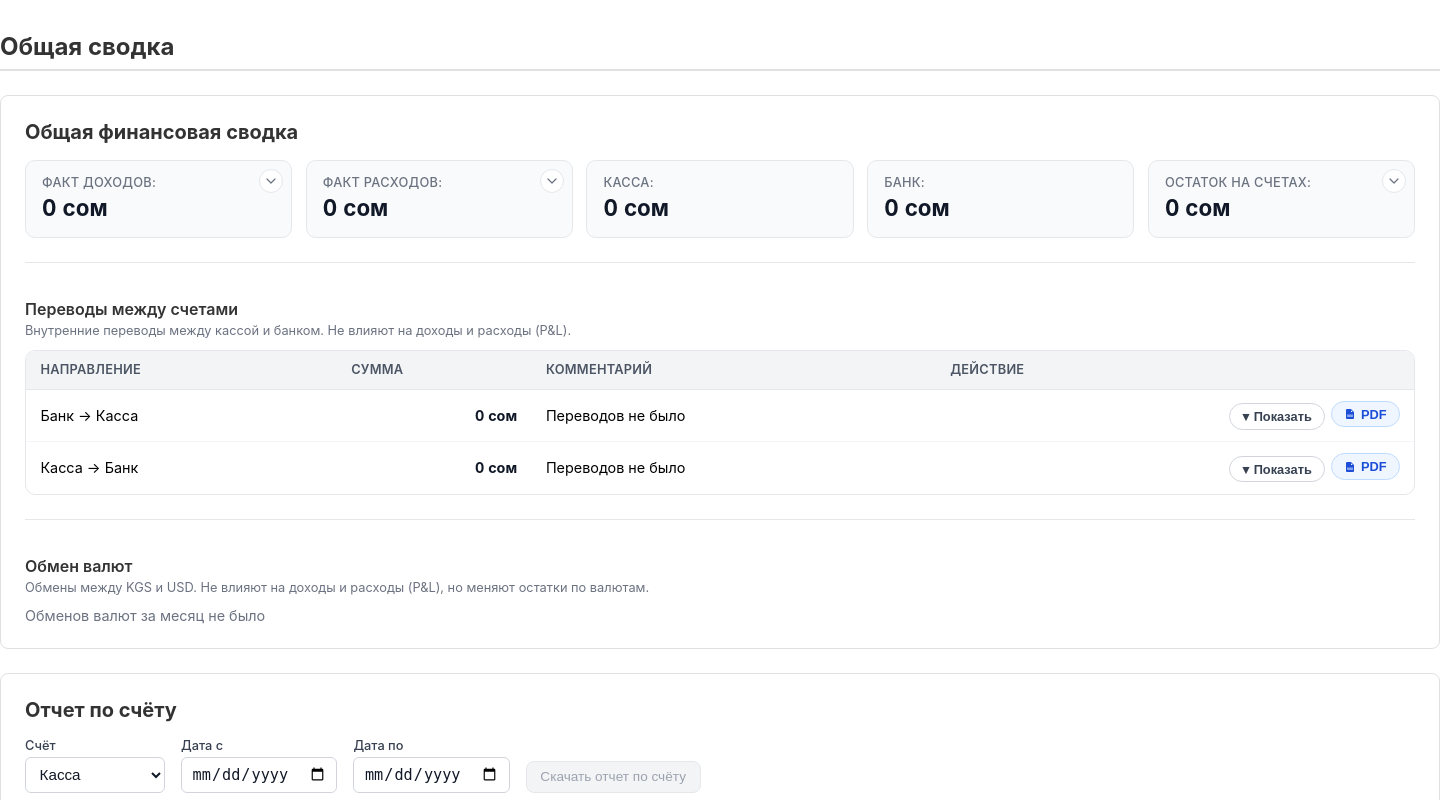
Scenario: GlobalSummary section PDF export › shows invalid range message and disables apply button
Click the button named "Показать детализацию расходов по категориям" at (552, 181), box [540,169,564,193]
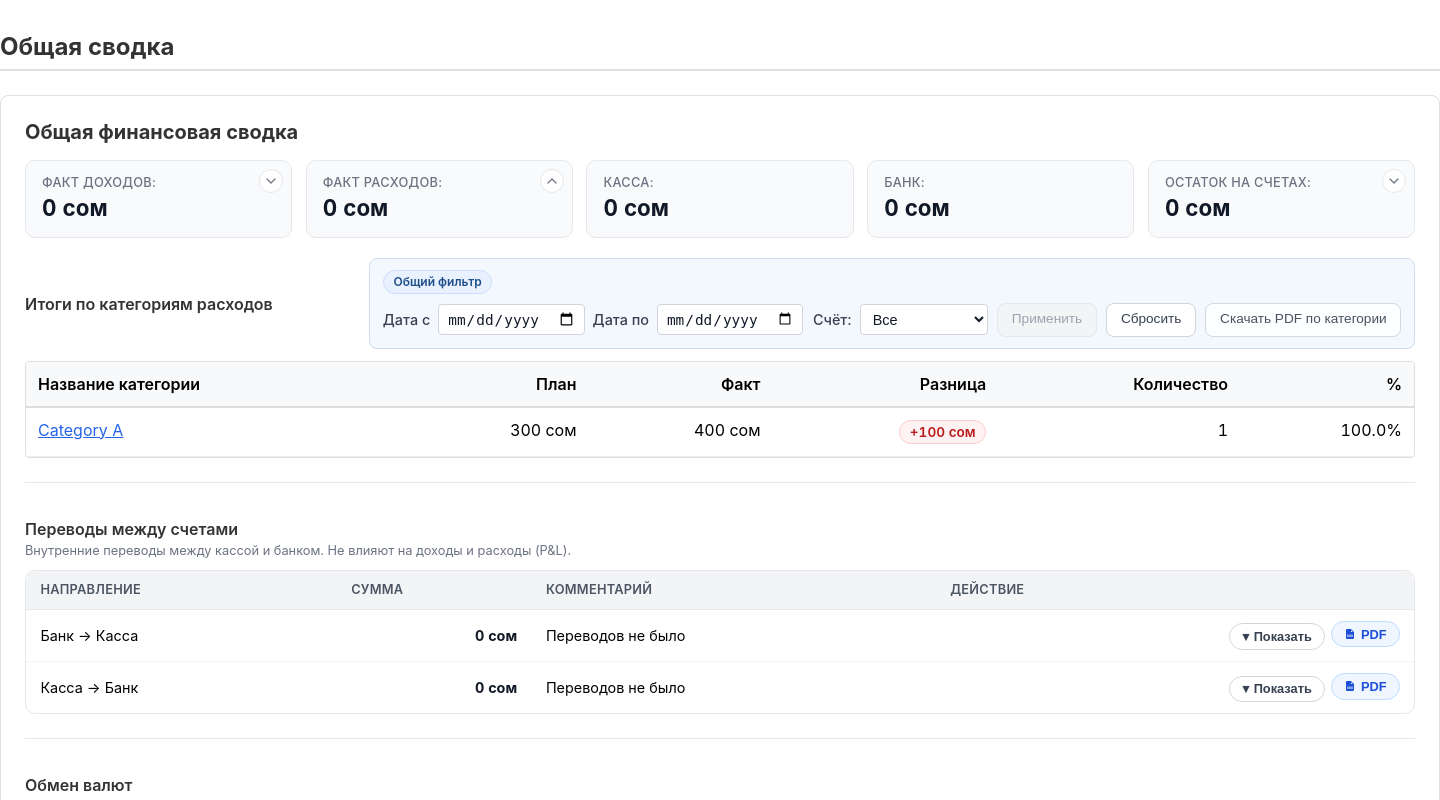
Result: the text "Итоги по категориям расходов" is shown at [25,294,273,314]
Type "2026-03-20" into the date field labelled "Дата с" at (511, 320), box [438,304,585,335]
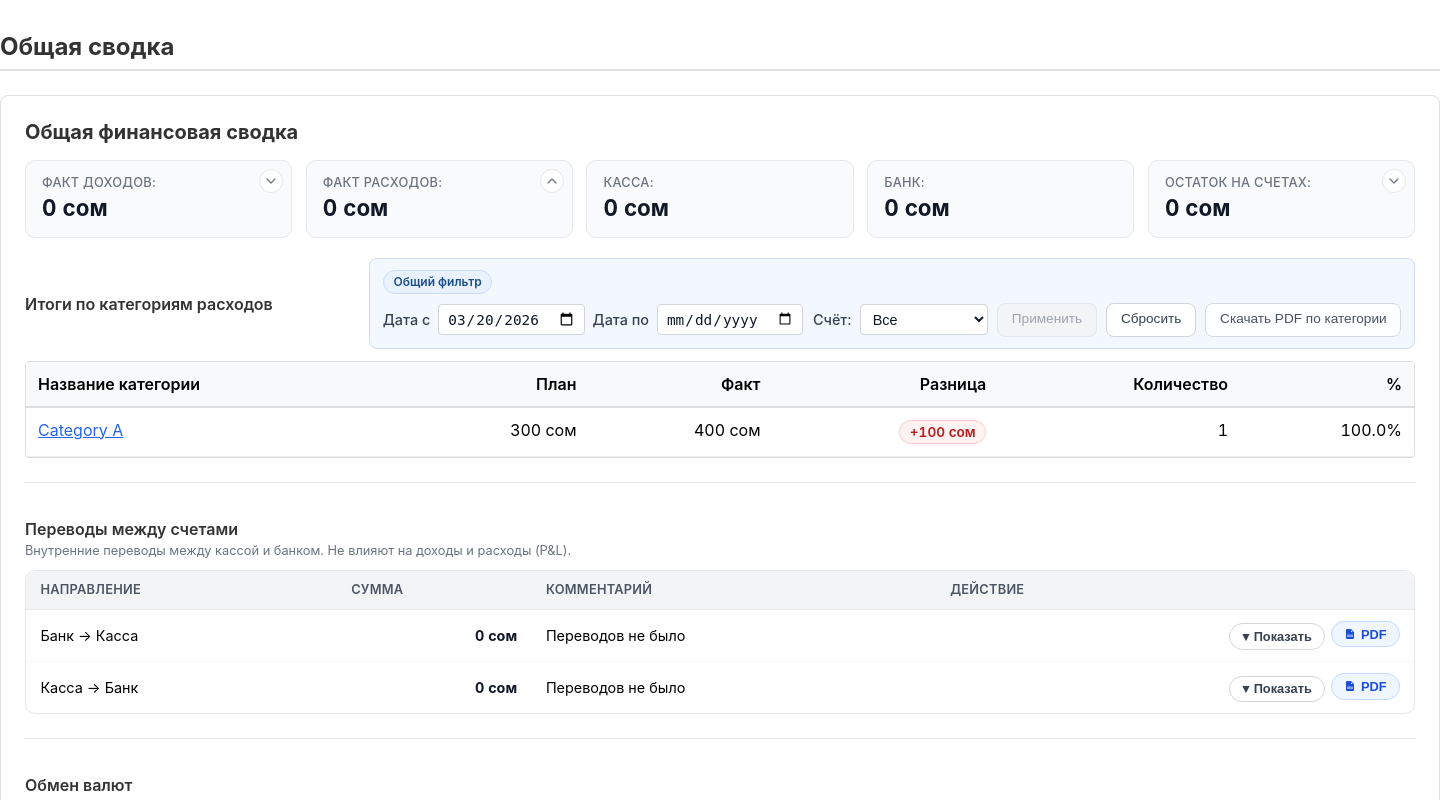
Type "2026-03-10" into the date field labelled "Дата по" at (730, 320), box [657,304,803,335]
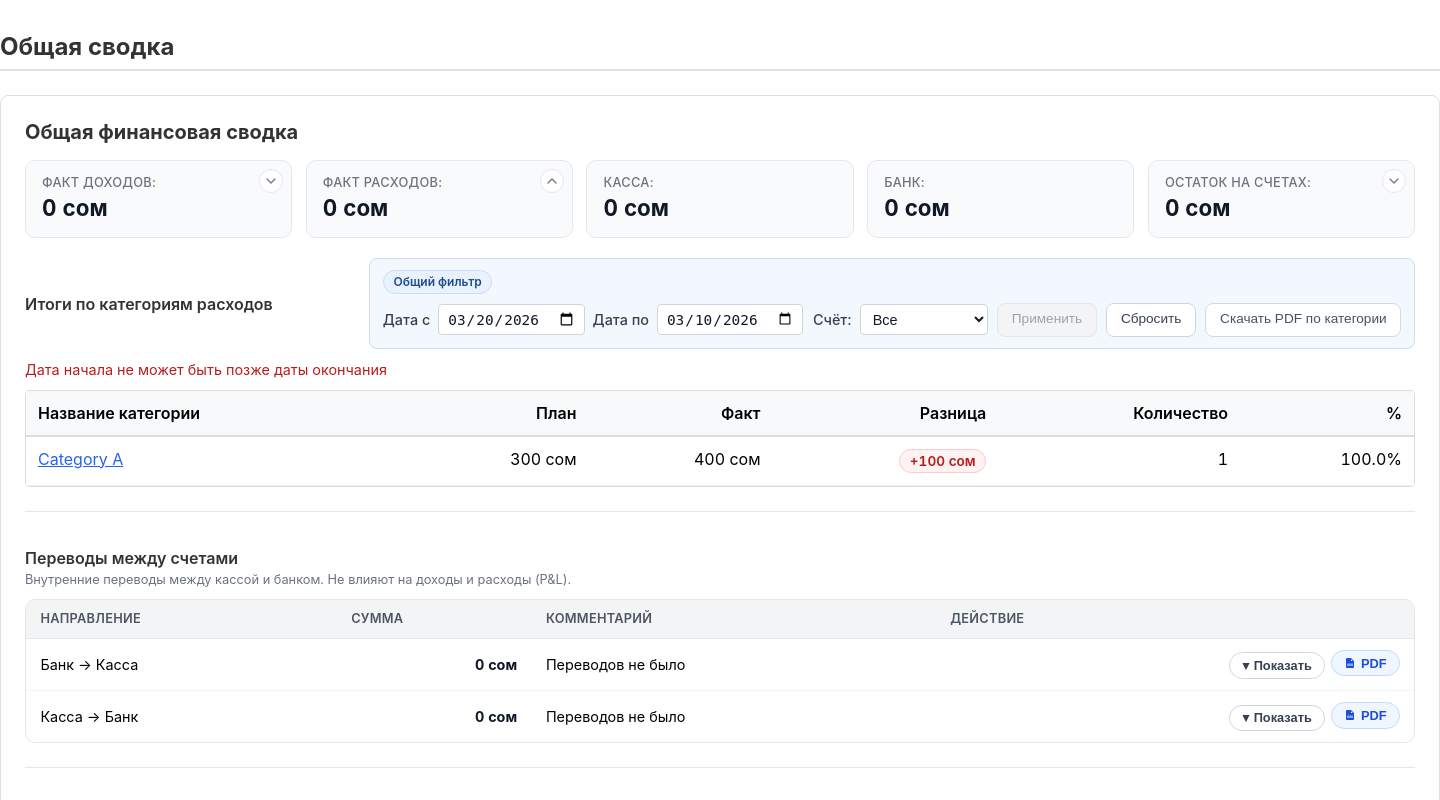
Result: the button "Применить" is disabled at [997,303,1097,337]
Result: the text "Дата начала не может быть позже даты окончания" is shown at [25,361,387,378]
